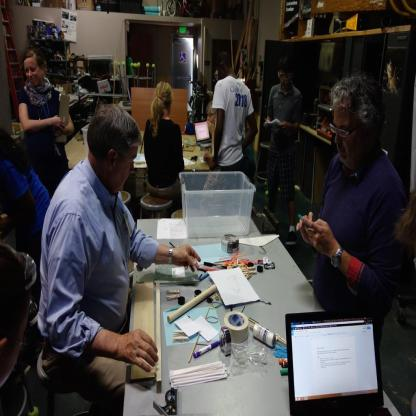board: (285, 309, 390, 416), (56, 95, 70, 143), (193, 122, 212, 145)
